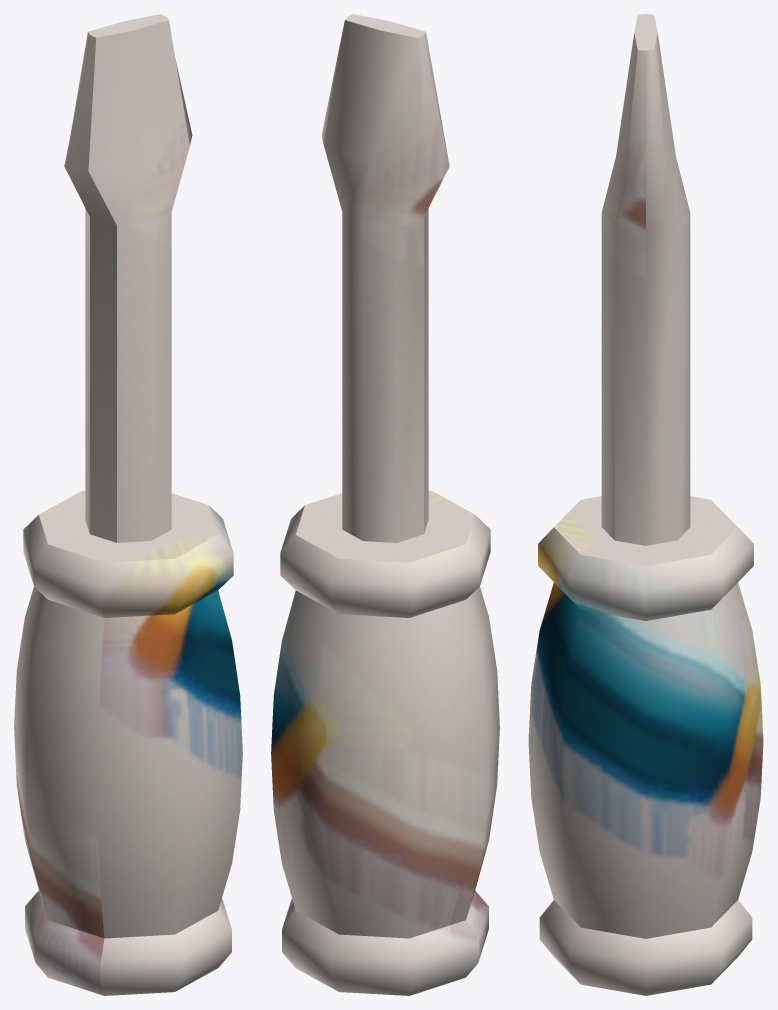
Rendered from driver.fbx.
3 renders of one model, left to right at view 1: azimuth 30°, elevation 25°; view 2: azimuth 150°, elevation 25°; view 3: azimuth 270°, elevation 25°, orthographic.
Parts seen in each view (by area): view 1: driver; view 2: driver; view 3: driver.
Part boxes in pixels (x1=…): driver: x1=14, y1=14, x2=242, y2=995; driver: x1=271, y1=14, x2=499, y2=995; driver: x1=528, y1=14, x2=763, y2=995.
Size of the model in its own units: 0.2256 by 0.9793 by 0.2256.
Materials: 1 (1 with a texture image).
